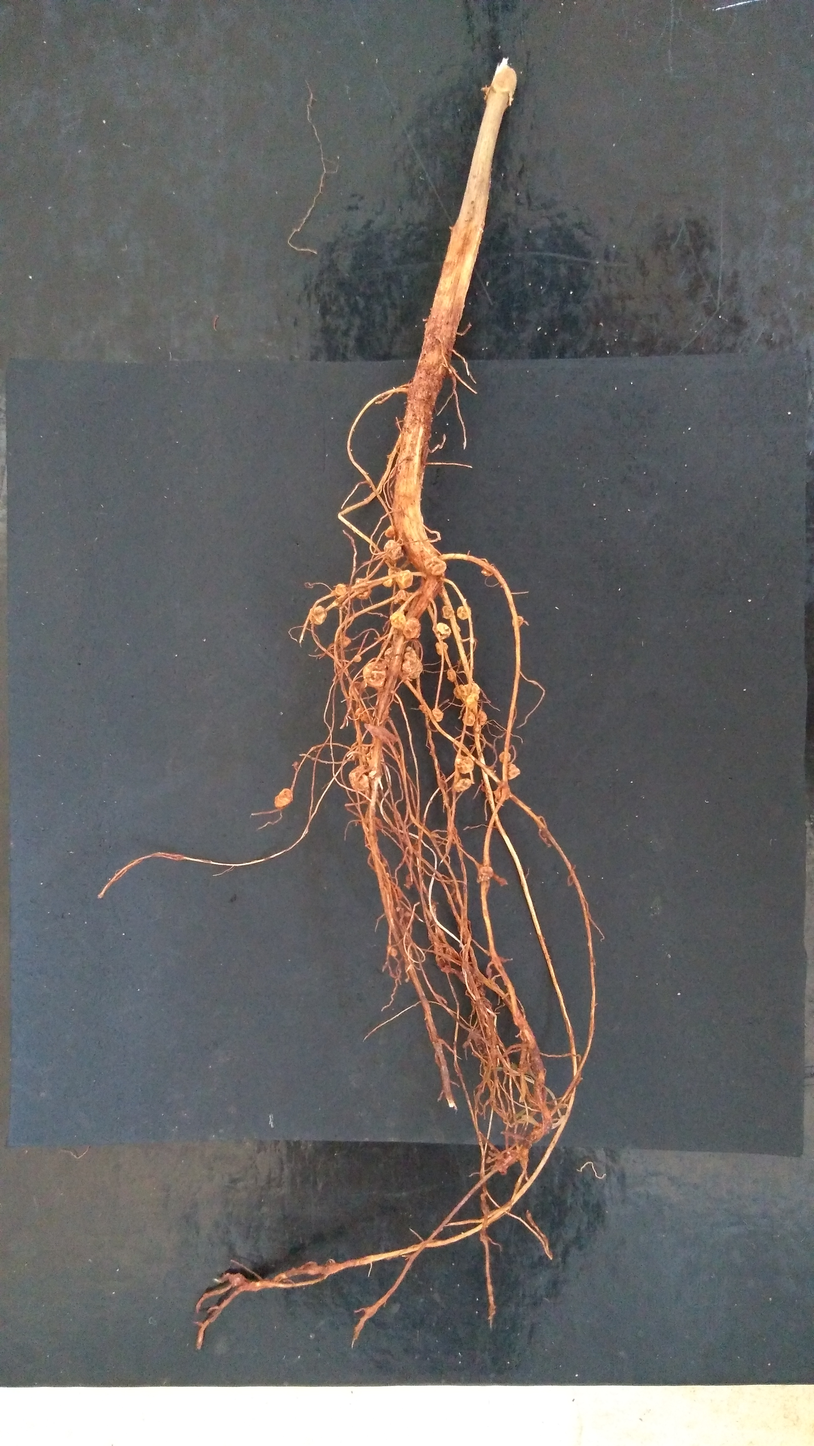nodule: (384, 647, 424, 678), (362, 662, 387, 687), (349, 765, 369, 790), (424, 556, 446, 575), (384, 540, 404, 560), (394, 590, 413, 611), (403, 617, 421, 639), (455, 755, 474, 774), (275, 788, 293, 808), (355, 578, 372, 599), (464, 682, 480, 704), (432, 622, 451, 640), (309, 606, 327, 625), (396, 570, 413, 590), (494, 781, 511, 800), (355, 706, 374, 723), (390, 611, 406, 628), (455, 778, 472, 792), (478, 866, 493, 881), (457, 606, 472, 620), (508, 763, 520, 780), (453, 684, 466, 699), (435, 642, 448, 656), (432, 707, 444, 722), (463, 711, 475, 726), (338, 635, 351, 648), (442, 606, 454, 619), (499, 751, 511, 763), (477, 711, 487, 725), (388, 566, 403, 575), (385, 526, 396, 538), (387, 944, 397, 957), (447, 669, 457, 682), (481, 567, 494, 577), (512, 616, 523, 627), (335, 584, 346, 595), (366, 749, 374, 764), (375, 816, 383, 831), (383, 578, 395, 588), (419, 704, 427, 713), (354, 655, 362, 662), (396, 907, 401, 912)
